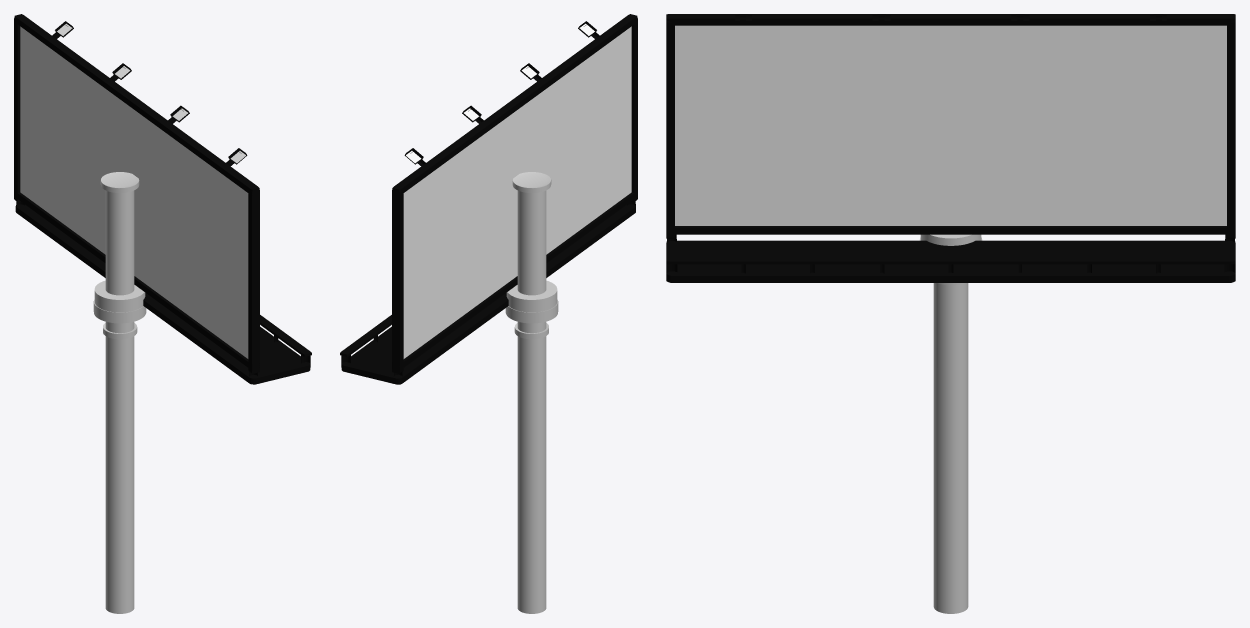
Rendered from bb-medium.glb.
3 views of the same model, side by side, from view 1: azimuth 30°, elevation 25°; view 2: azimuth 150°, elevation 25°; view 3: azimuth 270°, elevation 25° (orthographic). The views are drawn at different scales.
Visible parts, largest first — view 1: Cube.005, Cube.001, Cylinder, Cube.009; view 2: Cube.005, Cube.001, Cylinder, Cube.009; view 3: Cube.005, Cube.001, Cylinder.
Part boxes in pixels (x1,y1,x2,y2): Cube.005: [20, 26, 248, 358]; Cube.001: [14, 14, 311, 384]; Cylinder: [93, 172, 146, 613]; Cube.009: [57, 23, 245, 163]; Cube.005: [403, 26, 631, 358]; Cube.001: [340, 14, 637, 384]; Cylinder: [505, 172, 558, 613]; Cube.009: [406, 23, 594, 163]; Cube.005: [675, 25, 1226, 225]; Cube.001: [666, 14, 1235, 282]; Cylinder: [919, 234, 982, 613].
Bounding box in the file's own units: 7.67 × 39.04 × 32.86.
Materials: 2 (2 with a texture image).
